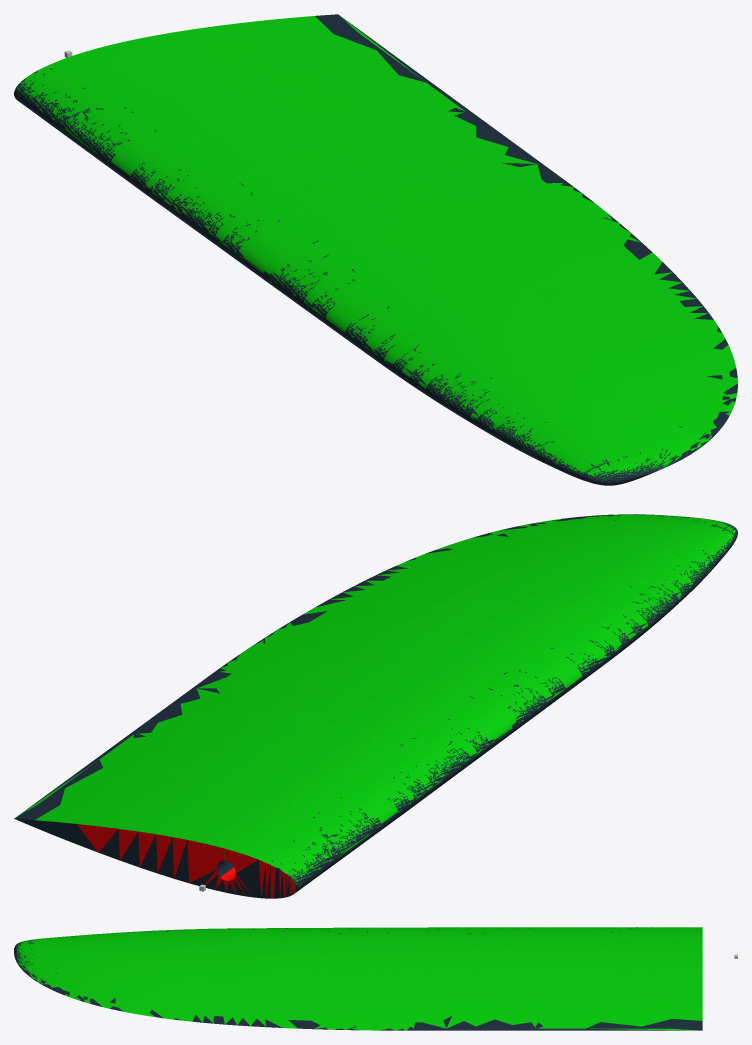
The model's file is rudder.obj.
3 views of the same model, one above another, from view 1: azimuth 30°, elevation 25°; view 2: azimuth 150°, elevation 25°; view 3: azimuth 270°, elevation 25° (orthographic). The views are drawn at different scales.
Parts seen in each view (by area): view 1: obj1; view 2: obj1; view 3: obj1.
Part boxes in pixels (bbox=[...]): obj1: bbox=[14, 14, 737, 485]; obj1: bbox=[14, 514, 737, 898]; obj1: bbox=[14, 927, 702, 1030].
Size of the model in its own units: 133 by 19.83 by 409.
